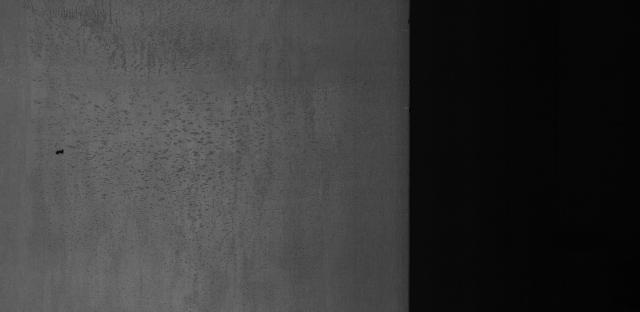inclusion: (51, 134, 76, 163)
silk_spot: (85, 36, 309, 253)
